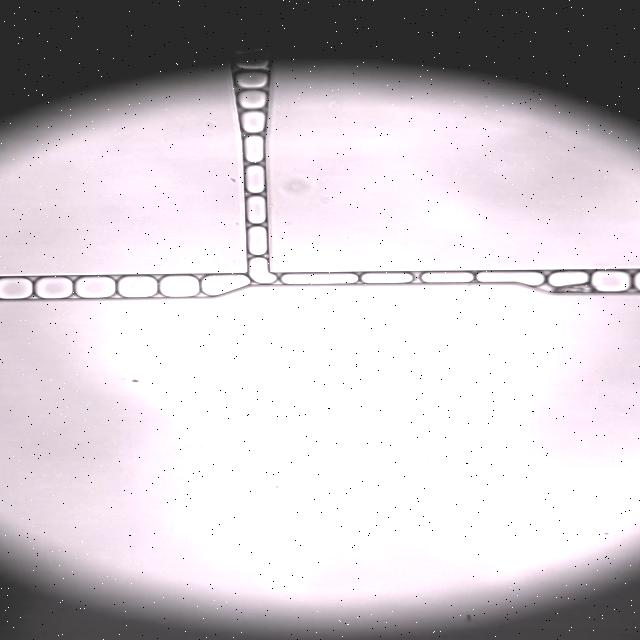L: (477, 271, 544, 286), (591, 271, 630, 292), (249, 258, 276, 284), (247, 226, 268, 255), (235, 71, 268, 89), (240, 111, 266, 133), (237, 90, 266, 109), (244, 136, 264, 163), (247, 196, 266, 224), (361, 273, 412, 283), (246, 165, 264, 193)
S: (201, 275, 249, 296), (75, 277, 115, 298), (117, 276, 157, 297), (160, 276, 199, 296), (282, 274, 357, 284), (0, 277, 33, 299), (38, 278, 72, 299), (548, 271, 587, 287), (421, 272, 473, 283), (634, 272, 640, 291)
